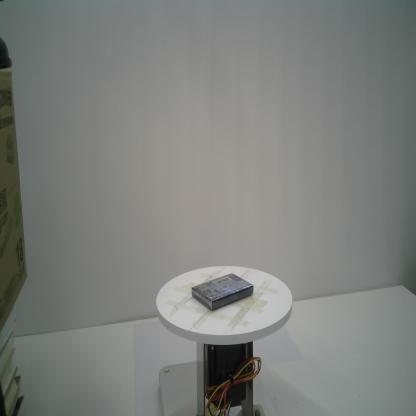Gum: (190, 271, 255, 312)
